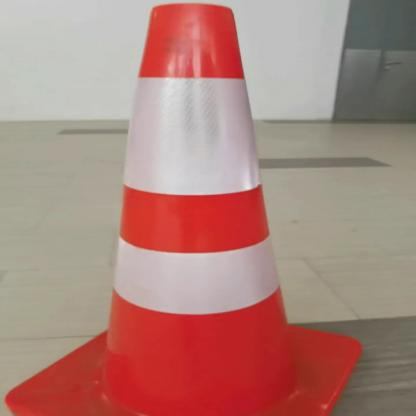cone: (0, 2, 368, 415)
